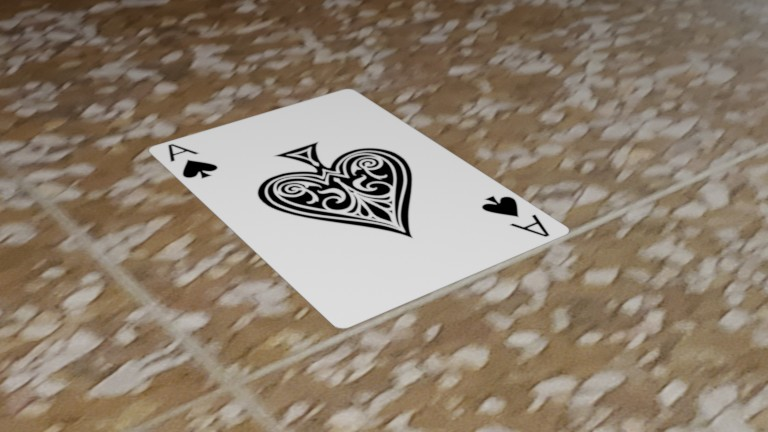ace_of_spades: (468, 190, 567, 246), (151, 138, 230, 185)
